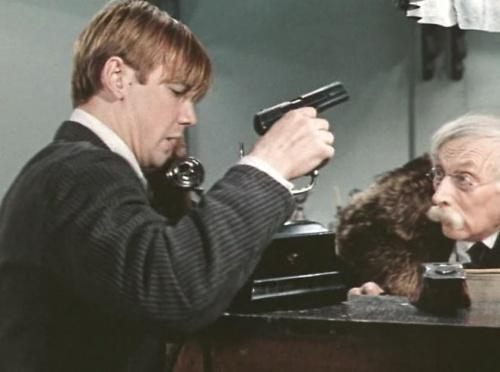Gun: (253, 78, 348, 172)
